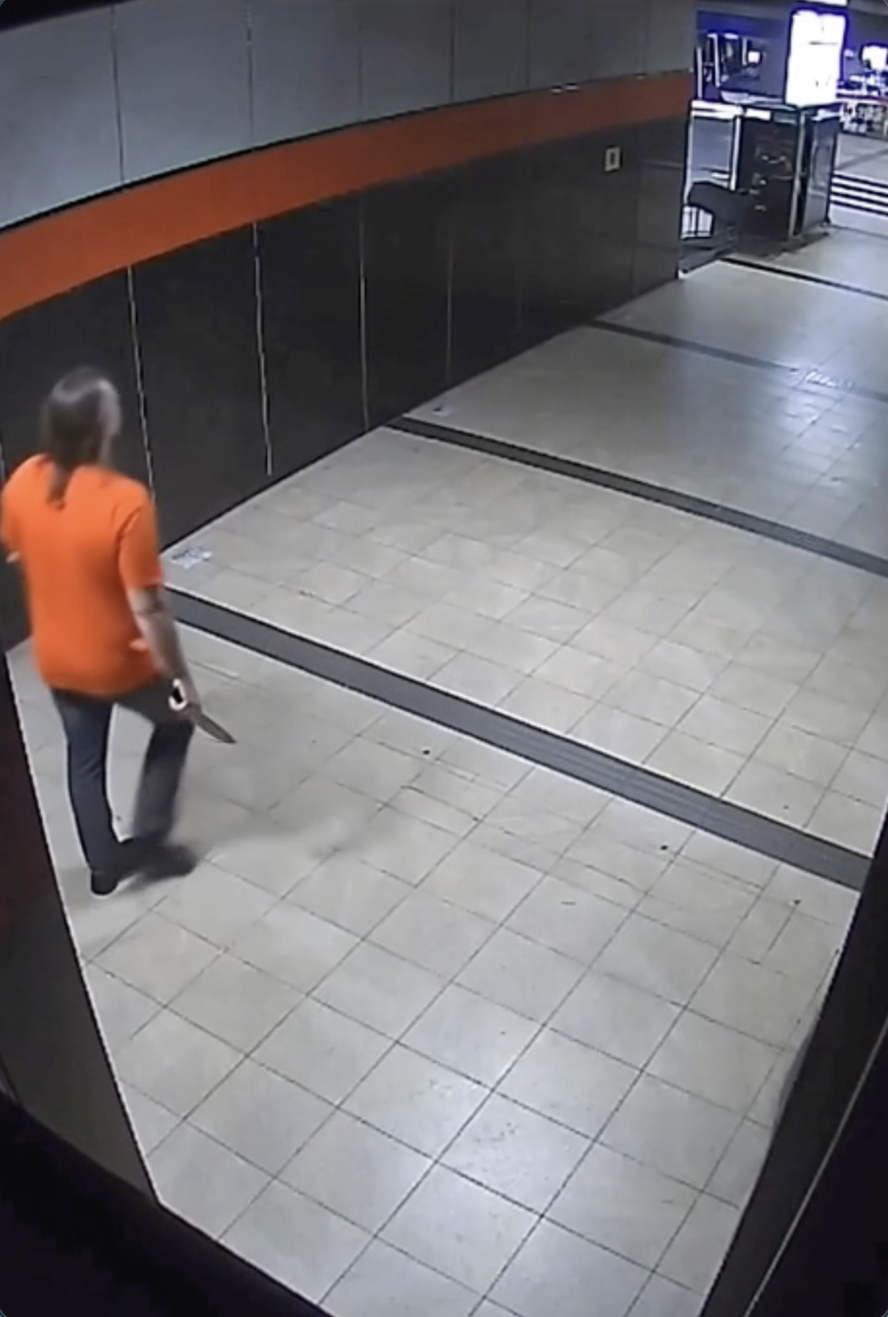Heavy Gun: (1, 357, 211, 895)
Knife: (158, 667, 241, 758)
